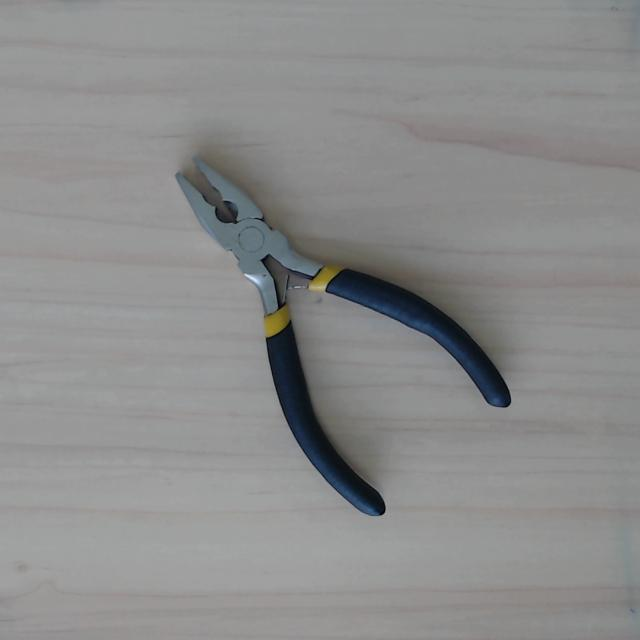Tang-Jepit-Hitam: (110, 98, 520, 528)
